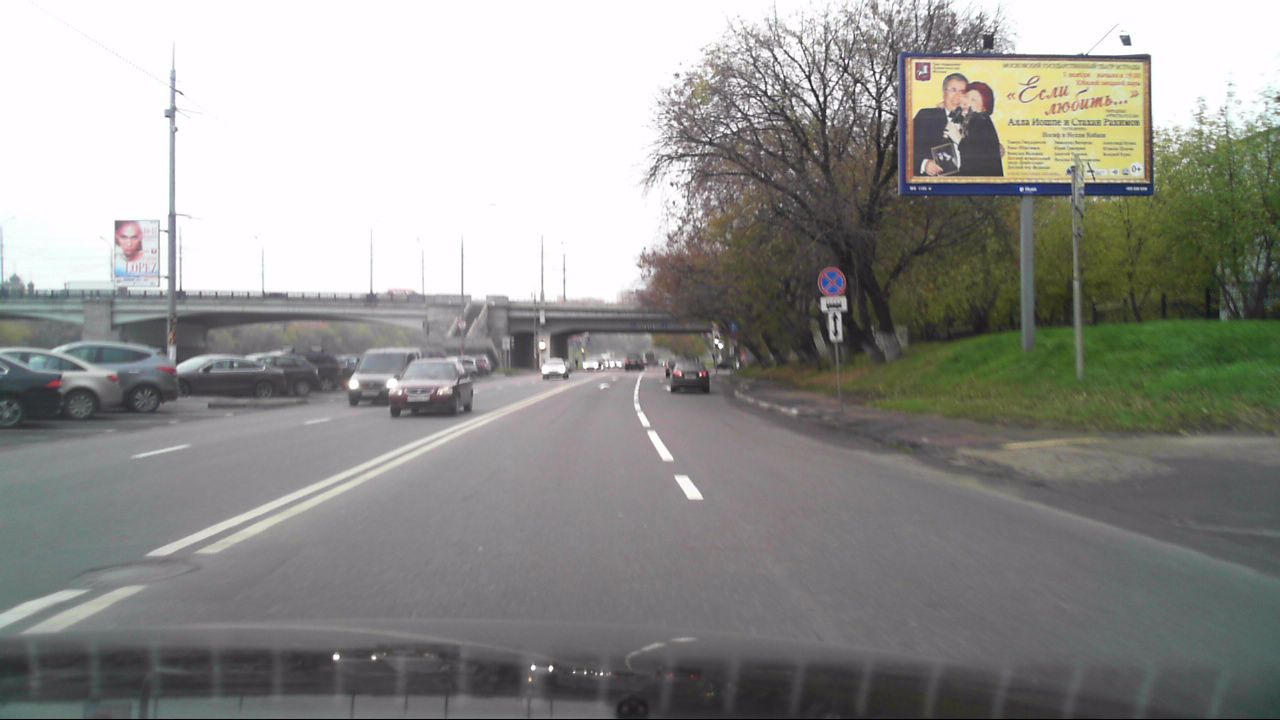No Parking: (816, 266, 848, 296)
